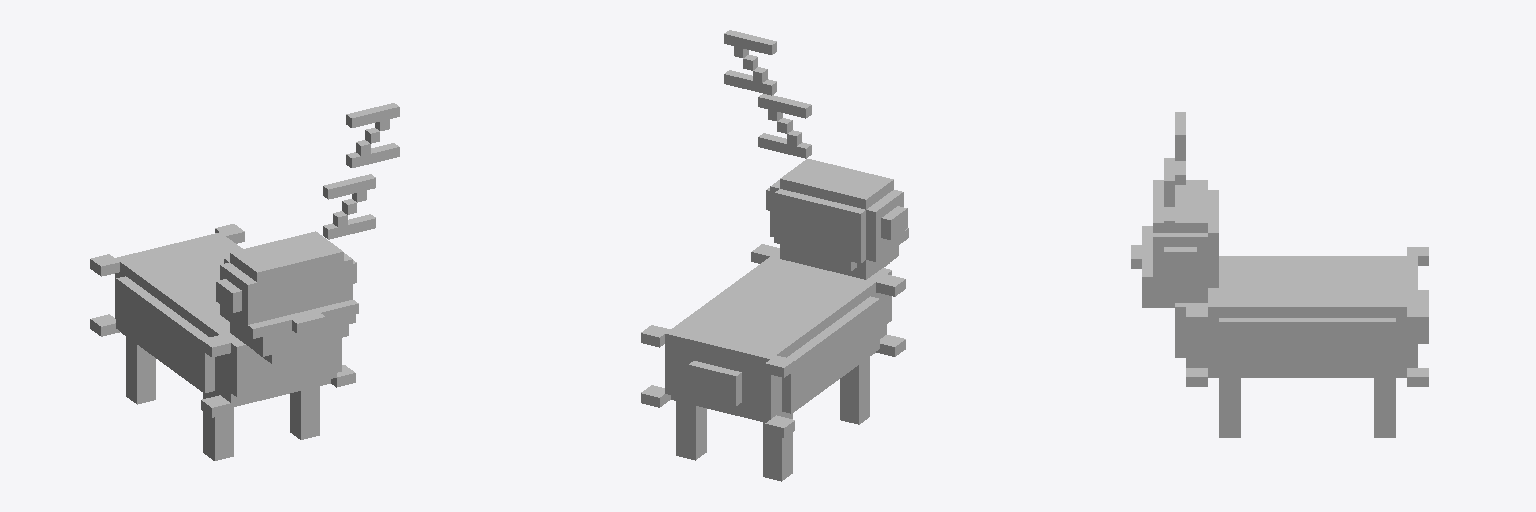
The model's file is Pillamb.obj.
The picture shows the model from 3 angles: view 1: azimuth 30°, elevation 25°; view 2: azimuth 150°, elevation 25°; view 3: azimuth 270°, elevation 25°; orthographic projection.
Visible parts, largest first — view 1: object 1; view 2: object 1; view 3: object 1.
Boxes of the visible parts, x1=… form: object 1: x1=90, y1=103, x2=399, y2=460; object 1: x1=641, y1=30, x2=908, y2=481; object 1: x1=1131, y1=112, x2=1428, y2=437.
Bounding box in the file's own units: 1.9 × 3.3 × 2.7.